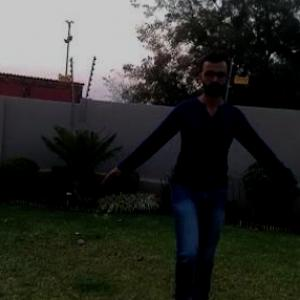land: (114, 63, 292, 299)
